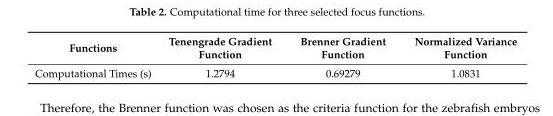table: (34, 34, 516, 79)
table column: (159, 34, 285, 79), (34, 34, 159, 79), (399, 34, 516, 79), (285, 34, 399, 79)
table column header: (34, 34, 516, 63)
table row: (34, 34, 516, 63), (34, 63, 516, 79)
